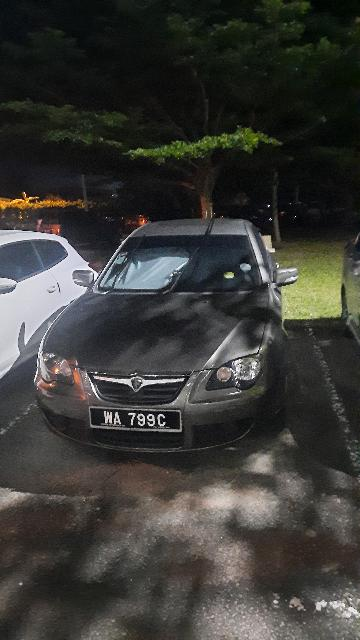License_Plate: (88, 403, 185, 436)
car: (35, 216, 306, 463)
